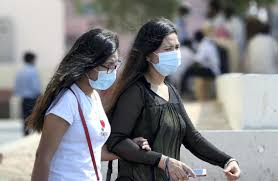with-mask: (60, 24, 122, 92), (132, 17, 184, 79)
